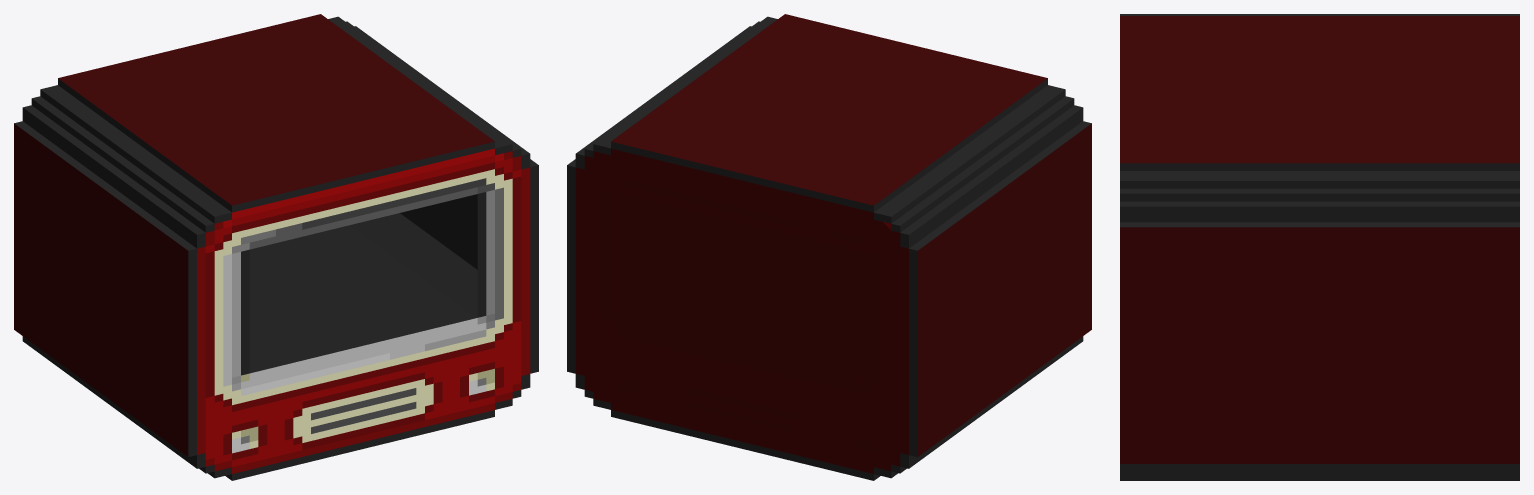
The model's file is mightychickentv.glb.
The picture shows the model from 3 angles, left to right: view 1: azimuth 30°, elevation 25°; view 2: azimuth 150°, elevation 25°; view 3: azimuth 270°, elevation 25°; orthographic projection. The views are drawn at different scales.
Parts seen in each view (by area): view 1: television; view 2: television; view 3: television.
Boxes of the visible parts, x1,y1,x2,y2 form: television: (14,14,538,480); television: (567,14,1091,480); television: (1120,14,1519,480).
Size of the model in its own units: 3.88 by 2.91 by 3.34.
Materials: 1 (1 with a texture image).
